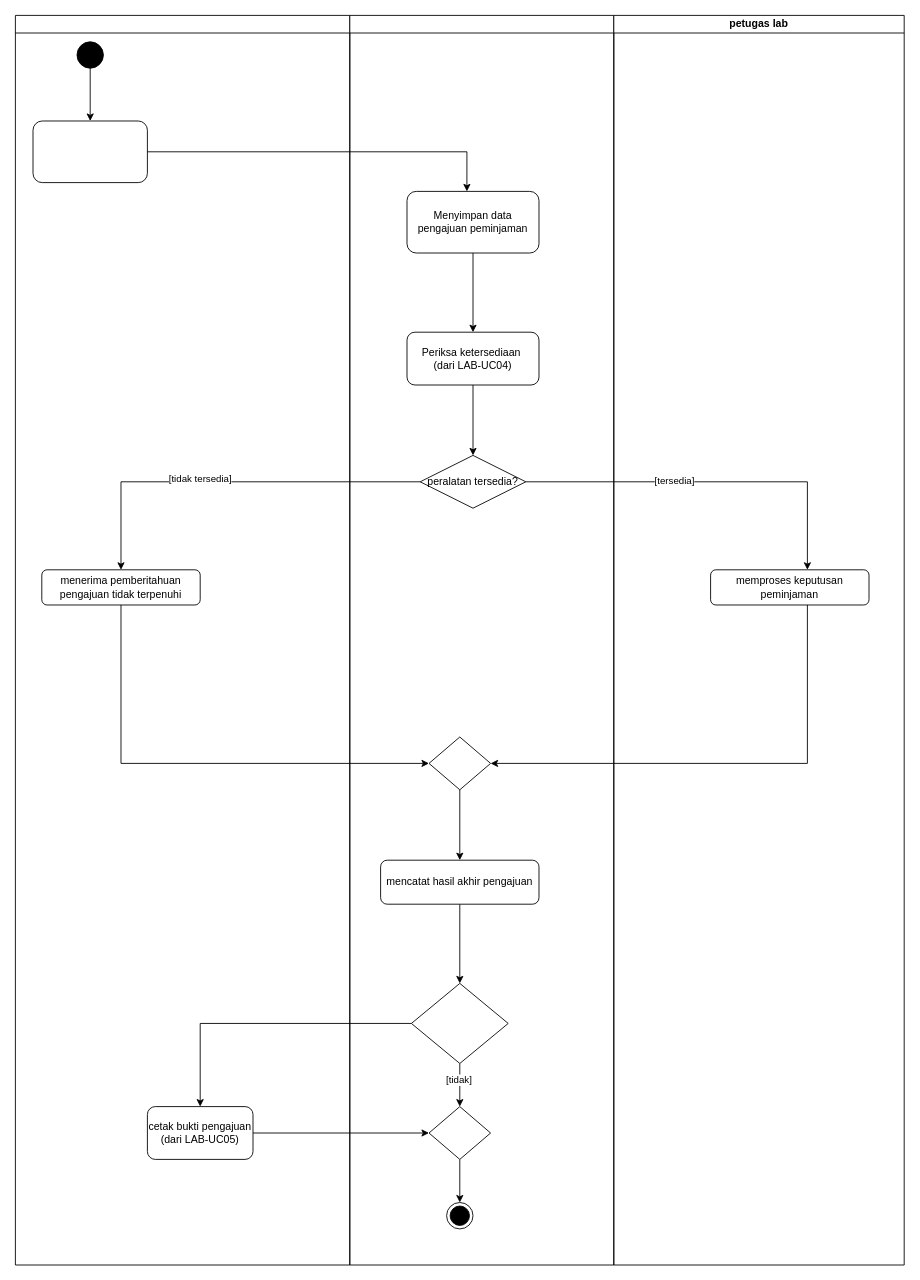
The diagram is 920 pixels wide and 1280 high, and some of its shapes have lost their labels. Each missing label, with the box of its shape:
mahasiswa: (15, 15, 350, 1265)
mahasiswa memilih cetak bukti: (411, 983, 508, 1063)
Mengisi Formulir pengajuan peminjaman: (32, 120, 147, 183)
sistem: (349, 15, 614, 1265)
